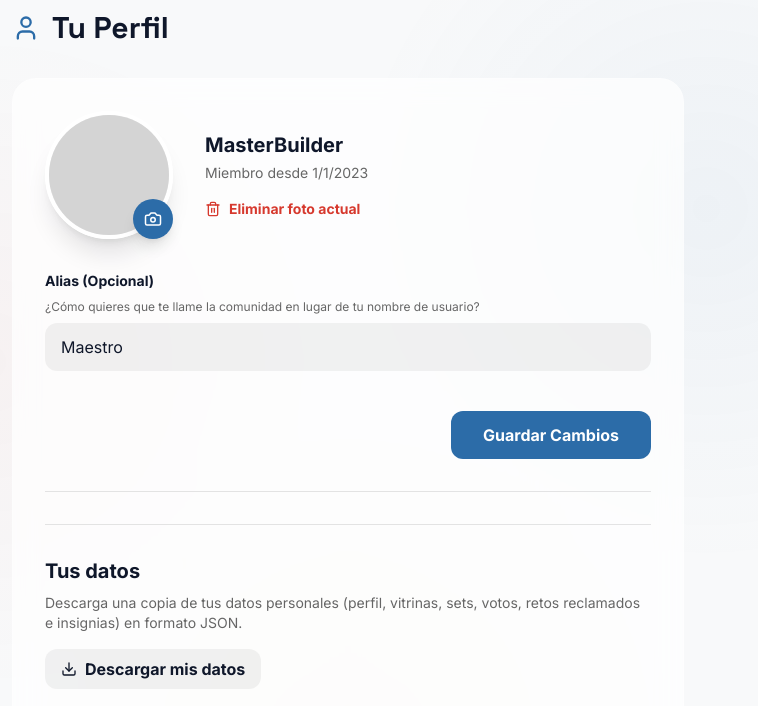
Test case: PerfilPage (Client) › permite eliminar foto actual
Click the button "Eliminar foto actual" at (283, 209), box [205,199,360,219]
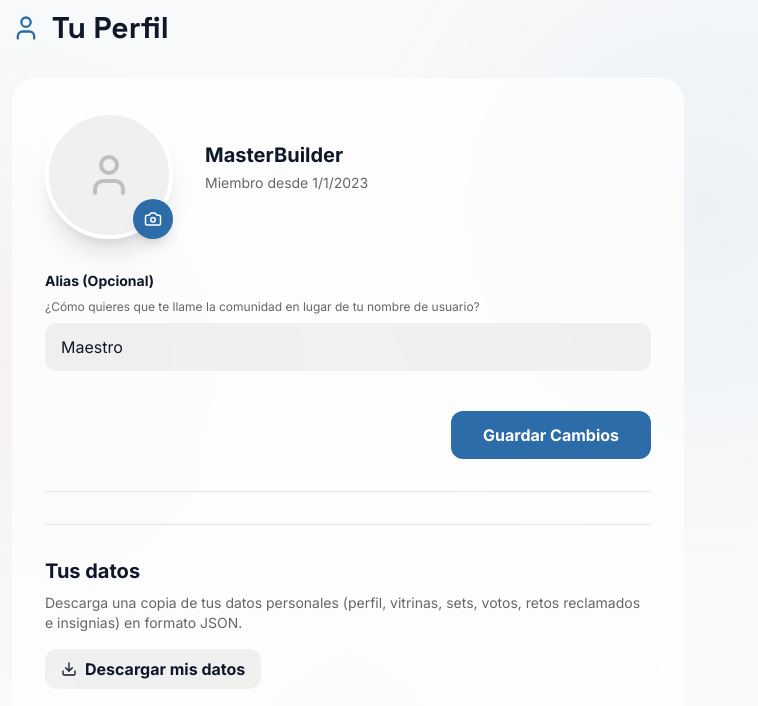
Result: the button "Eliminar foto actual" is gone
